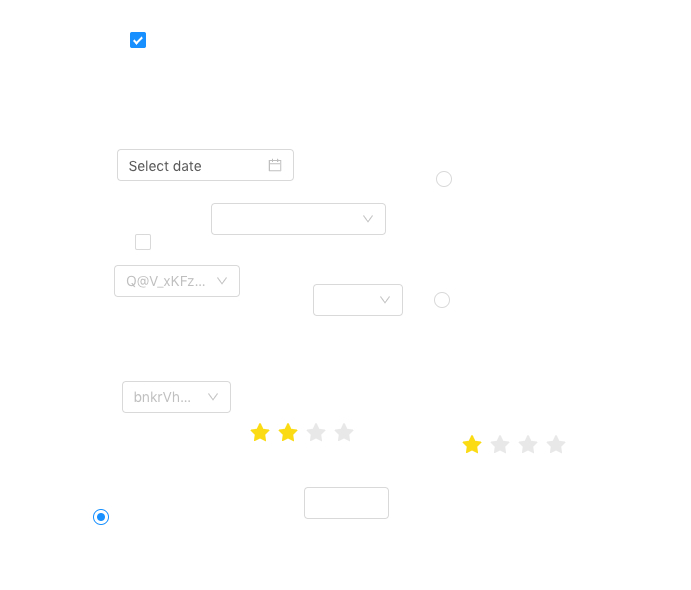Checkbox: (135, 231, 151, 252), (130, 29, 146, 50)
DatePicker: (117, 149, 294, 181)
Input: (304, 487, 389, 519)
Radio: (434, 289, 450, 309), (436, 168, 452, 188), (93, 506, 109, 526)
Rate: (462, 428, 582, 460), (250, 416, 370, 448)
Select: (211, 203, 386, 235), (114, 265, 240, 297), (122, 381, 231, 413), (313, 284, 403, 316)
